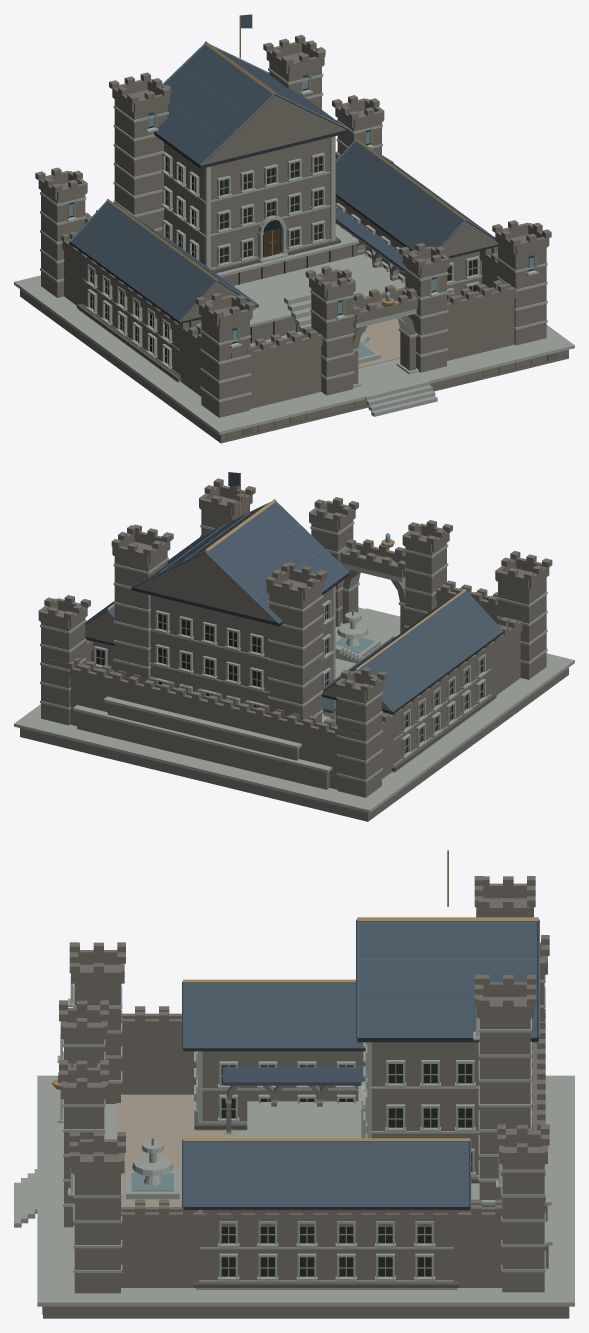
File: mountain.glb
3 views of the same model, one above another, from view 1: azimuth 30°, elevation 25°; view 2: azimuth 150°, elevation 25°; view 3: azimuth 270°, elevation 25° (orthographic). The views are drawn at different scales.
Visible parts, largest first — view 1: citadel, citadel-roof, precinct-base, inhabited-detail; view 2: citadel, citadel-roof, precinct-base; view 3: citadel, citadel-roof, precinct-base, inhabited-detail.
Part boxes in pixels (box(x1,y1,x2,y2)): citadel: box(35, 14, 551, 417); citadel-roof: box(70, 41, 497, 324); precinct-base: box(14, 275, 574, 443); inhabited-detail: box(221, 336, 568, 440); citadel: box(38, 472, 552, 797); citadel-roof: box(85, 499, 503, 714); precinct-base: box(14, 607, 574, 821); citadel: box(52, 850, 552, 1293); citadel-roof: box(182, 917, 539, 1209); precinct-base: box(37, 1075, 574, 1318); inhabited-detail: box(14, 1169, 42, 1314).
Bounding box in the file's own units: 23.5 × 17.2 × 24.52.
